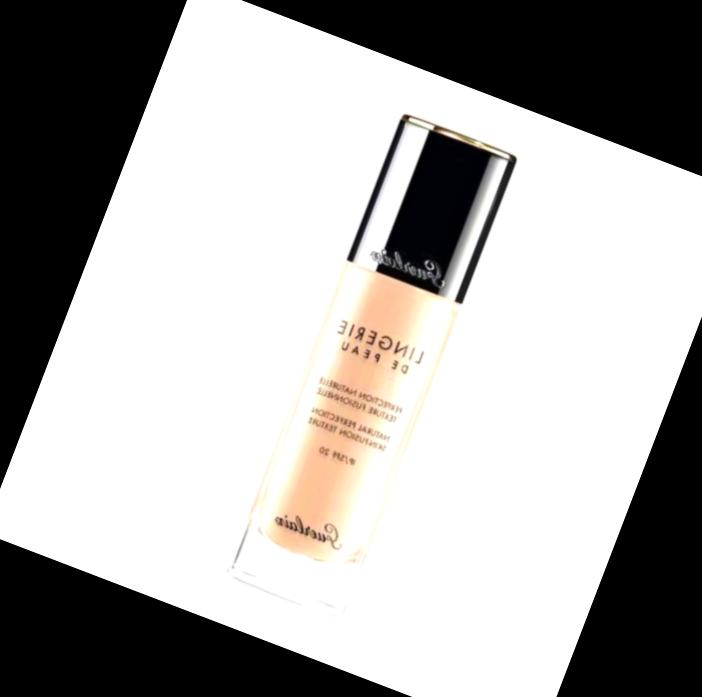cosmetic: (222, 108, 519, 617)
